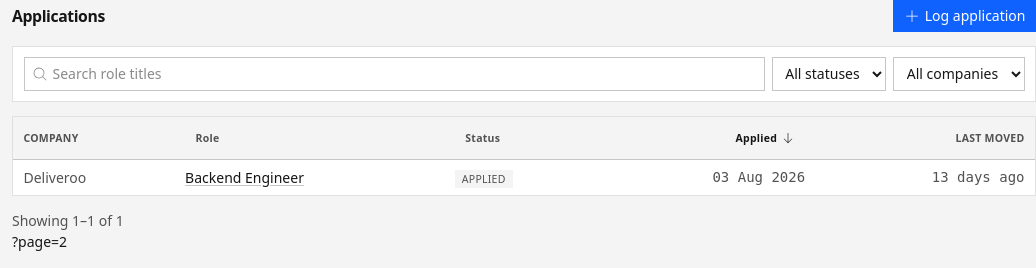
Scenario: ApplicationsPage › drops the page number when a filter changes
The image size is (1036, 268).
Expected: the link "Backend Engineer" is shown, [185,168,304,187]
Step 1. Select "Offer" in the 1st dropdown named "Filter by status" → x=829, y=74, box [772,57,886,90]
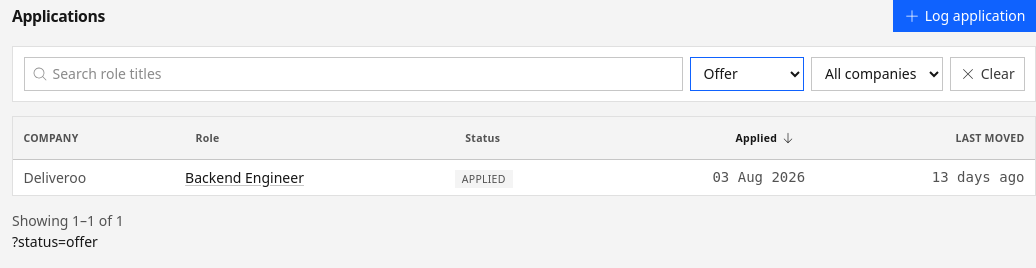
Expected: the text with test id "search-params" shows "status=offer", [12,232,98,251]
Expected: the text with test id "search-params" no longer shows "page=2", [12,232,98,251]
